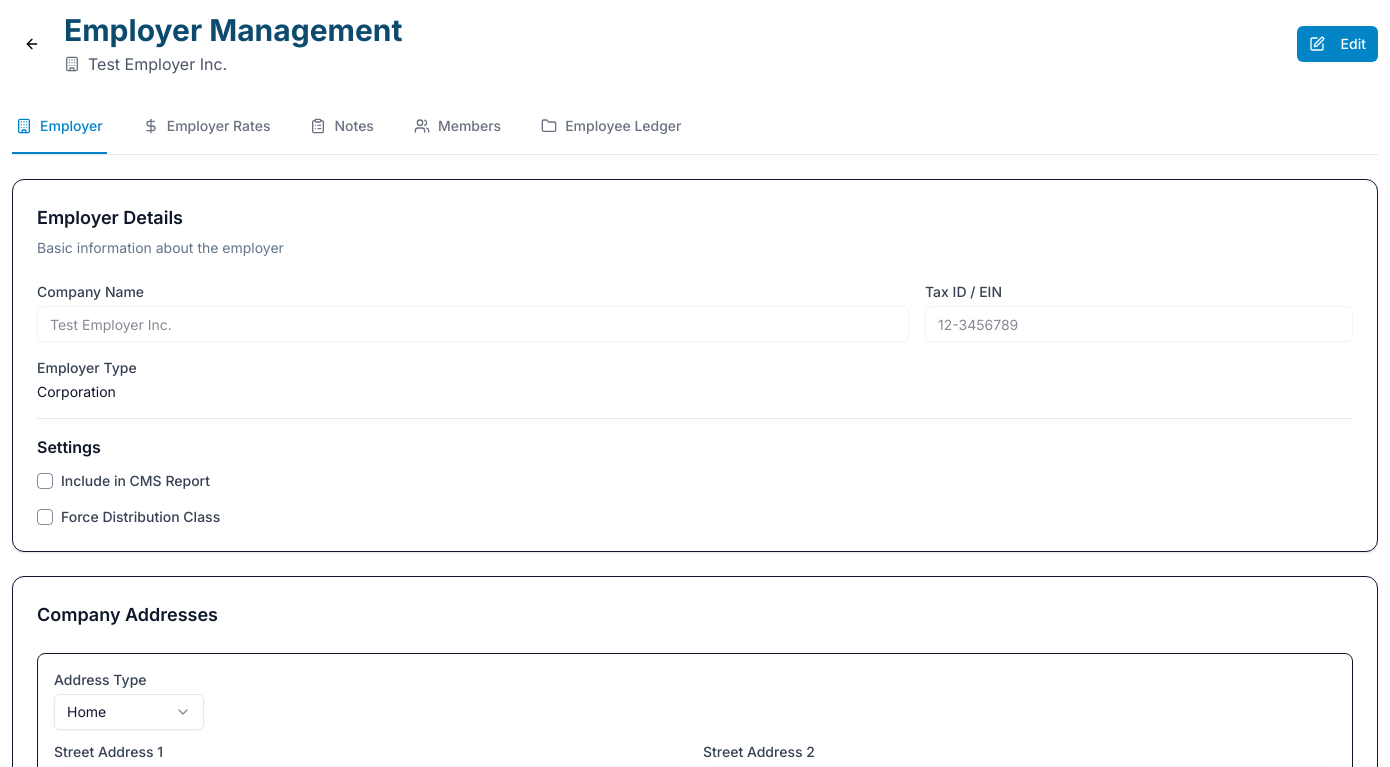
Test: Employer Detail Page › Tab Navigation › should switch to Employer Rates tab
Click the button "Employer Rates" at (207, 127), box [139,100,274,154]
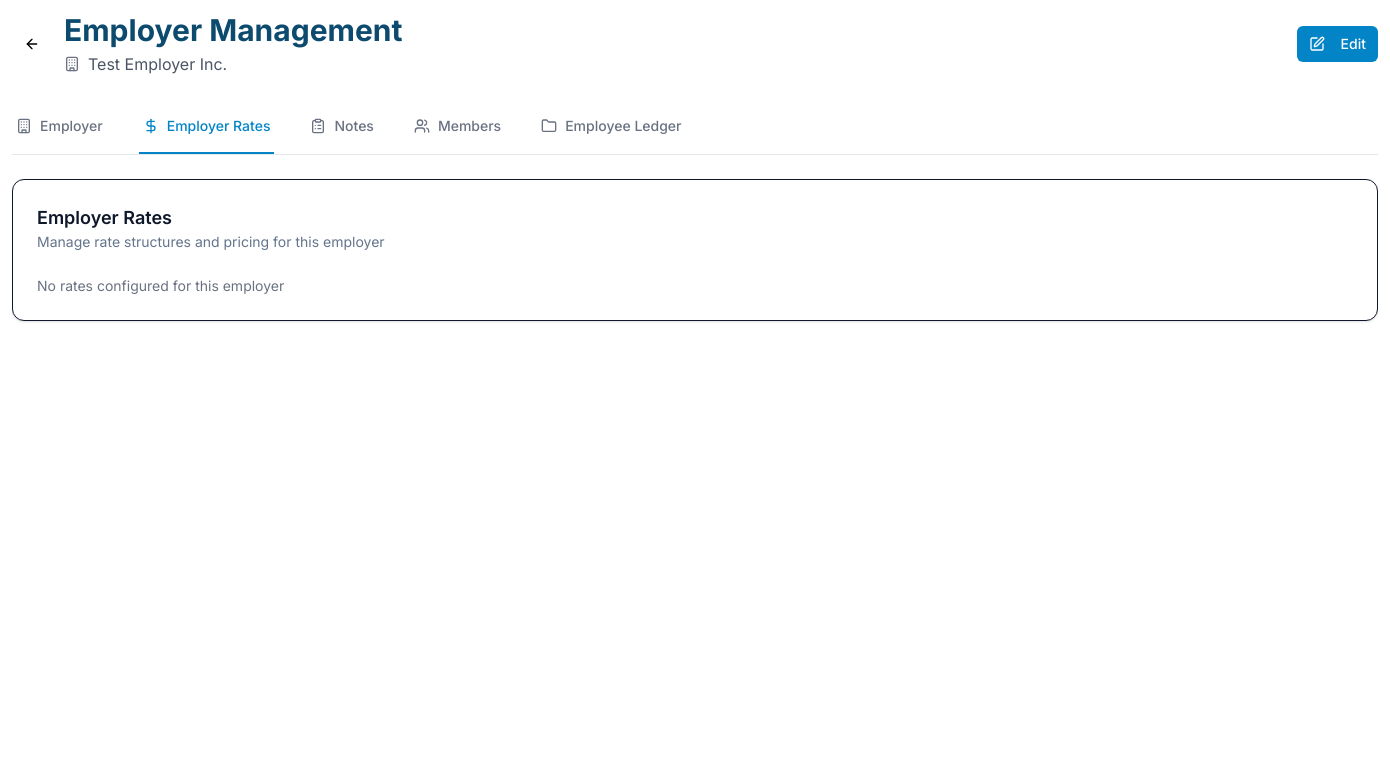
Now the text "Manage rate structures and pricing for this employer" is shown, box [37,232,385,252]
